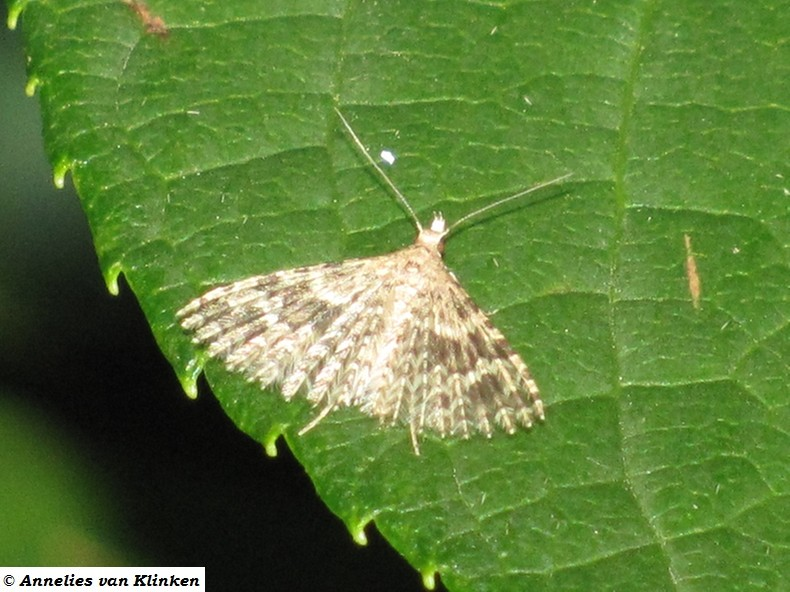Alucitidae: (188, 101, 574, 456)
moth: (186, 99, 572, 454)
